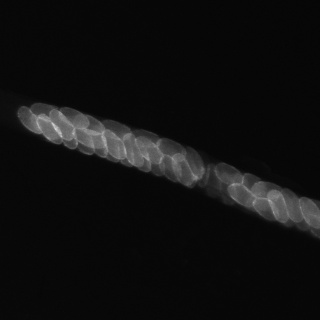embryo: (227, 182, 255, 210), (280, 188, 302, 223), (267, 189, 289, 224), (49, 110, 75, 139), (37, 115, 63, 144), (135, 137, 162, 164), (157, 138, 187, 162), (72, 128, 107, 148), (172, 153, 193, 186), (59, 107, 90, 129), (123, 133, 143, 167), (102, 130, 126, 158), (18, 106, 42, 134), (99, 120, 132, 140), (185, 147, 204, 180), (71, 128, 95, 154), (214, 163, 242, 185), (146, 143, 165, 175), (75, 115, 105, 135), (160, 156, 182, 183), (129, 130, 162, 148), (292, 198, 310, 230), (220, 173, 237, 205), (206, 163, 221, 198), (30, 102, 57, 121), (253, 197, 275, 220), (251, 181, 281, 197), (118, 137, 133, 165), (133, 150, 151, 173), (91, 132, 107, 157), (243, 173, 261, 193), (198, 166, 210, 187), (64, 132, 78, 150)
